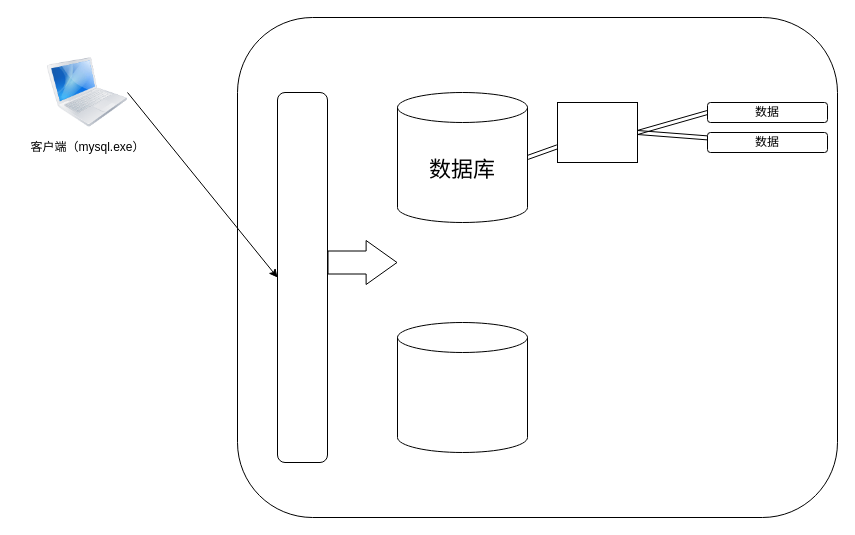
Image size: 855x535. Some labels were removed from this diagram. The shapes that lost their labels are listed below. From the top down, each one's centre as x and y in pixels, then its label:
At (x=597, y=132): "数据表".
At (x=302, y=277): "数据库管理系统(mysql服务)".
